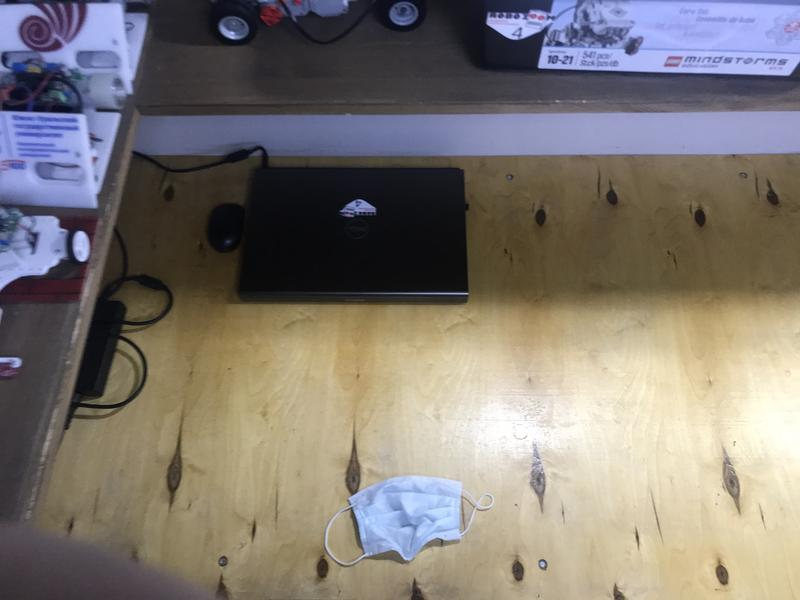medical_mask: (324, 476, 493, 564)
